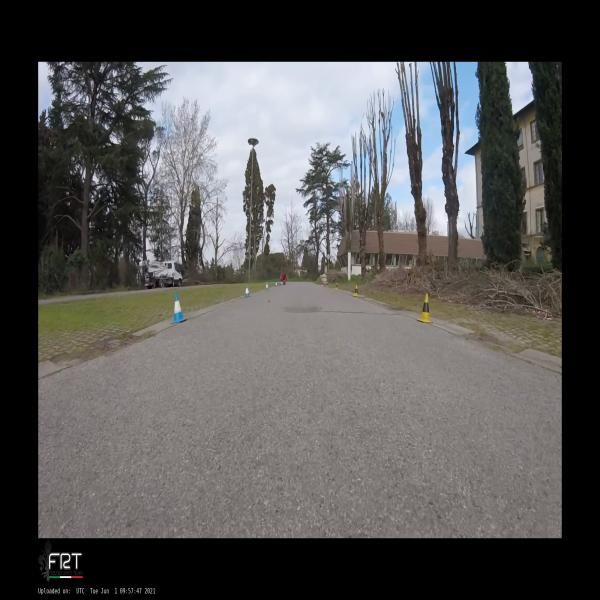blue_cone: (172, 293, 186, 322), (244, 286, 251, 298), (266, 284, 269, 290)
yellow_cone: (417, 293, 433, 323), (353, 284, 358, 297), (336, 282, 338, 290), (326, 282, 328, 287)
